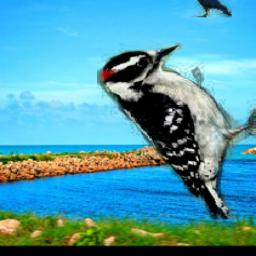Crow: (188, 0, 232, 17)
Woodpecker: (98, 44, 256, 220)
